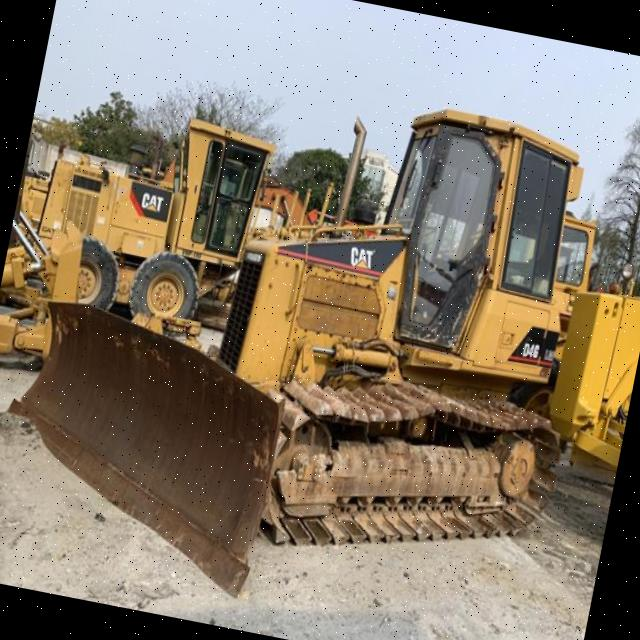Bulldozer: (6, 0, 640, 627)
